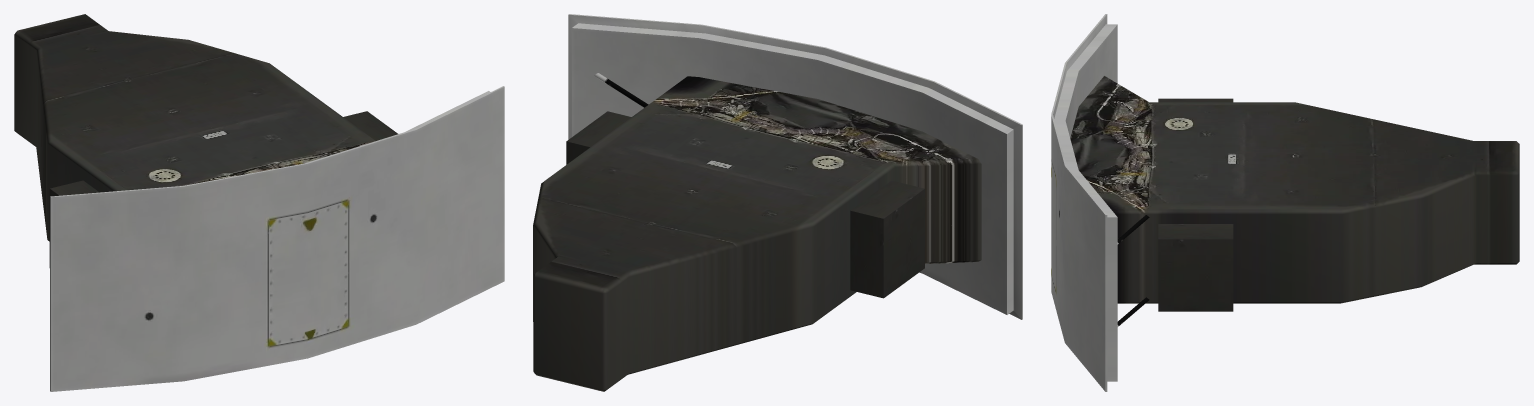
Rendered from wide-field-planetary-camera.glb.
3 views of the same model, side by side, from view 1: azimuth 30°, elevation 25°; view 2: azimuth 150°, elevation 25°; view 3: azimuth 270°, elevation 25° (orthographic). The views are drawn at different scales.
Parts seen in each view (by area): view 1: hubbletele; view 2: hubbletele; view 3: hubbletele.
Part boxes in pixels (x1,y1,x2,y2): hubbletele: (14,14,504,391); hubbletele: (533,14,1022,391); hubbletele: (1051,14,1519,391).
Size of the model in its own units: 72.13 by 29.6 by 71.05.
1 material, 1 textured.
